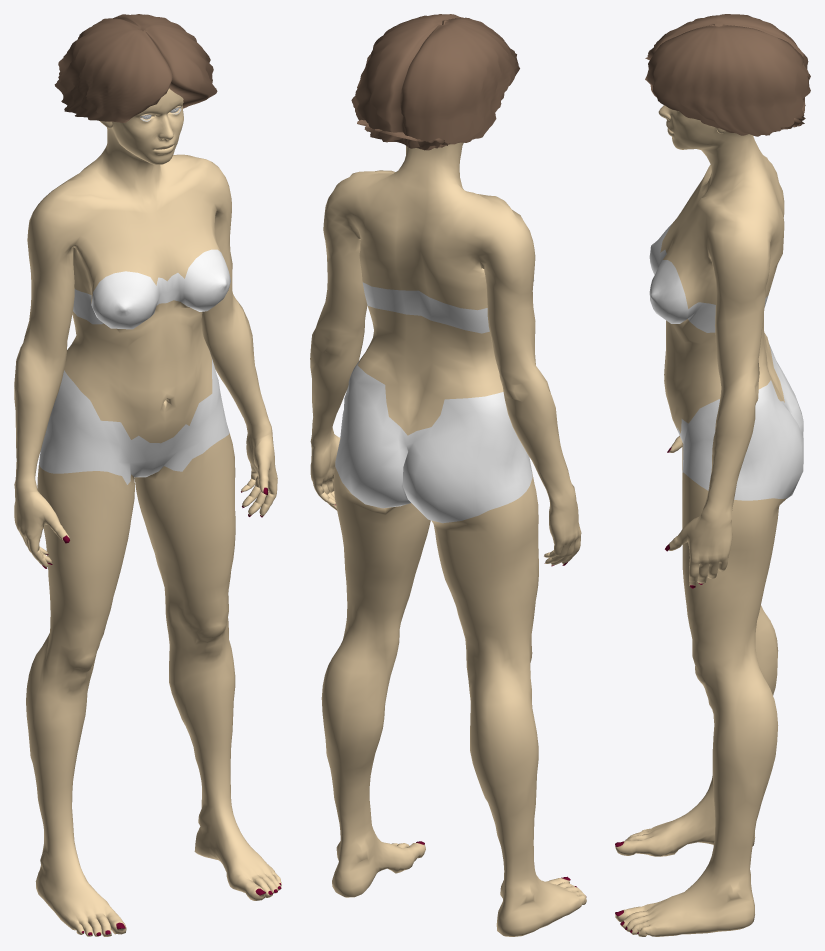
File: avatar_female_1.glb
The picture shows the model from 3 angles, left to right: view 1: azimuth 30°, elevation 25°; view 2: azimuth 150°, elevation 25°; view 3: azimuth 270°, elevation 25°; orthographic projection. The views are drawn at different scales.
Parts seen in each view (by area): view 1: f_ca01; view 2: f_ca01; view 3: f_ca01.
Boxes of the visible parts, x1=… form: f_ca01: x1=14, y1=14, x2=281, y2=936; f_ca01: x1=310, y1=14, x2=586, y2=936; f_ca01: x1=615, y1=14, x2=810, y2=936.
Bounding box in the file's own units: 0.531 × 1.72 × 0.3524.
Materials: 11 (1 with a texture image).
